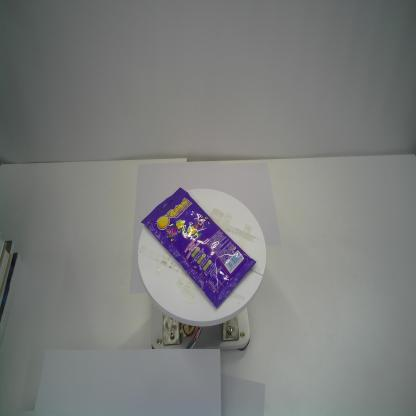Candy: (140, 185, 256, 311)
